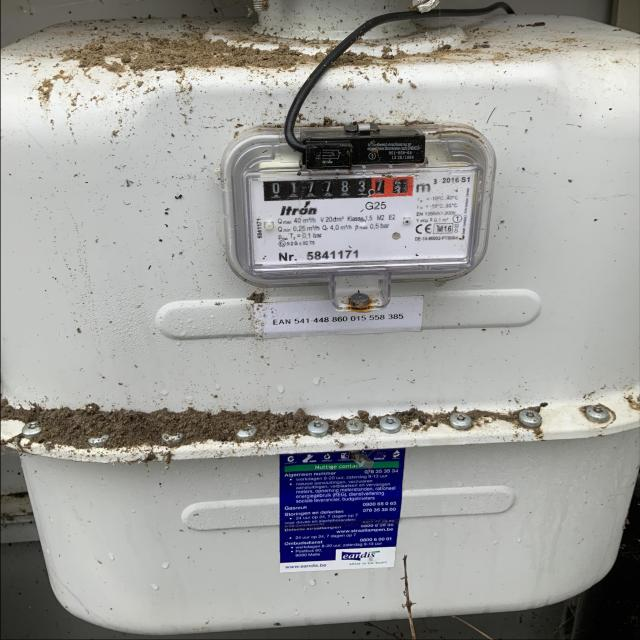gaz_meter: (239, 163, 476, 270)
indication: (262, 174, 414, 201)
